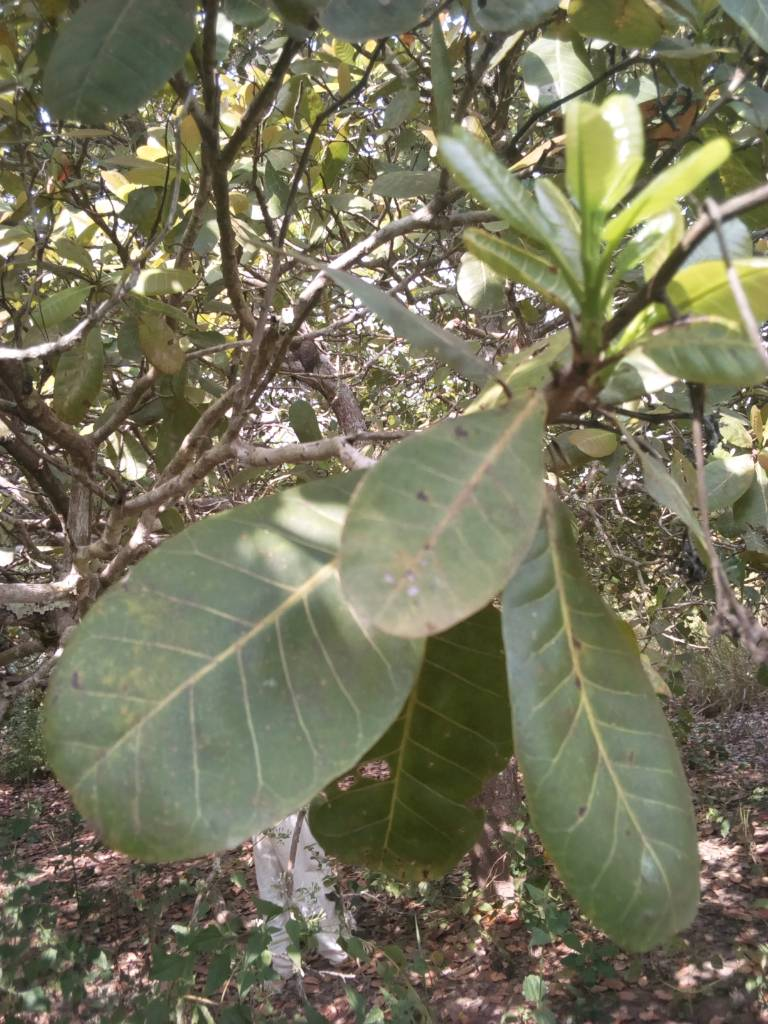Anthracnose: (332, 394, 546, 639)
